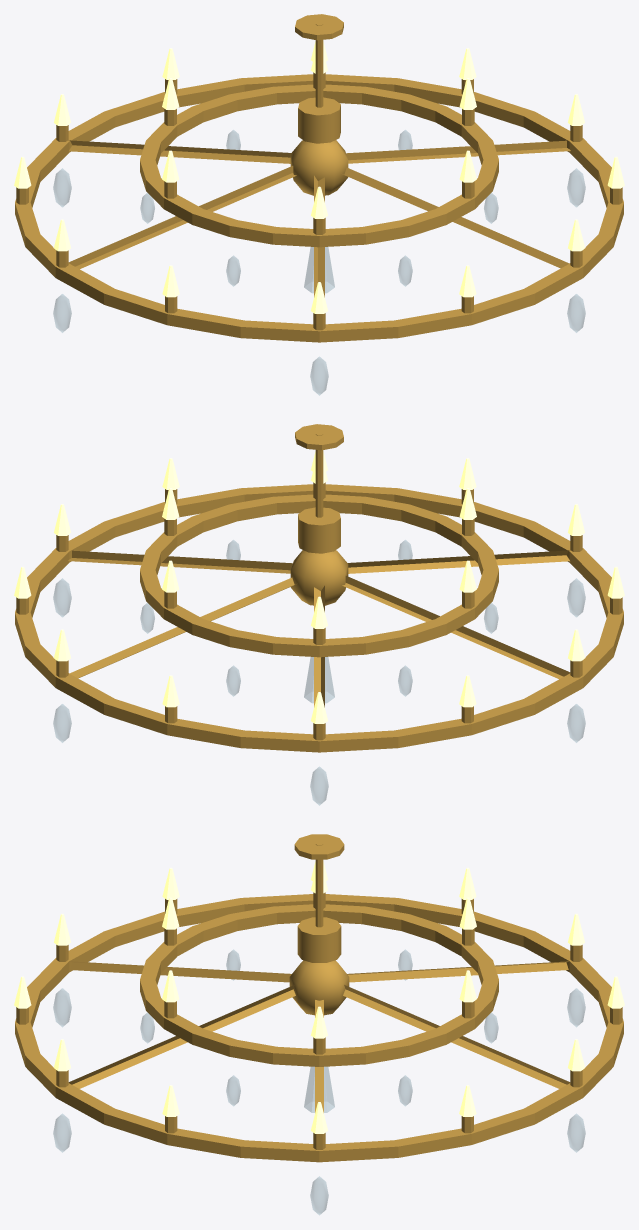
File: chandelier.glb
The picture shows the model from 3 angles, top to bottom: view 1: azimuth 30°, elevation 25°; view 2: azimuth 150°, elevation 25°; view 3: azimuth 270°, elevation 25°; orthographic projection.
Visible parts, largest first — view 1: chandelier; view 2: chandelier; view 3: chandelier.
Boxes of the visible parts, <box> form: chandelier: <box>14,14,624,395</box>; chandelier: <box>14,424,624,805</box>; chandelier: <box>14,834,624,1215</box>.
Bounding box in the file's own units: 1.95 × 0.93 × 1.96.
